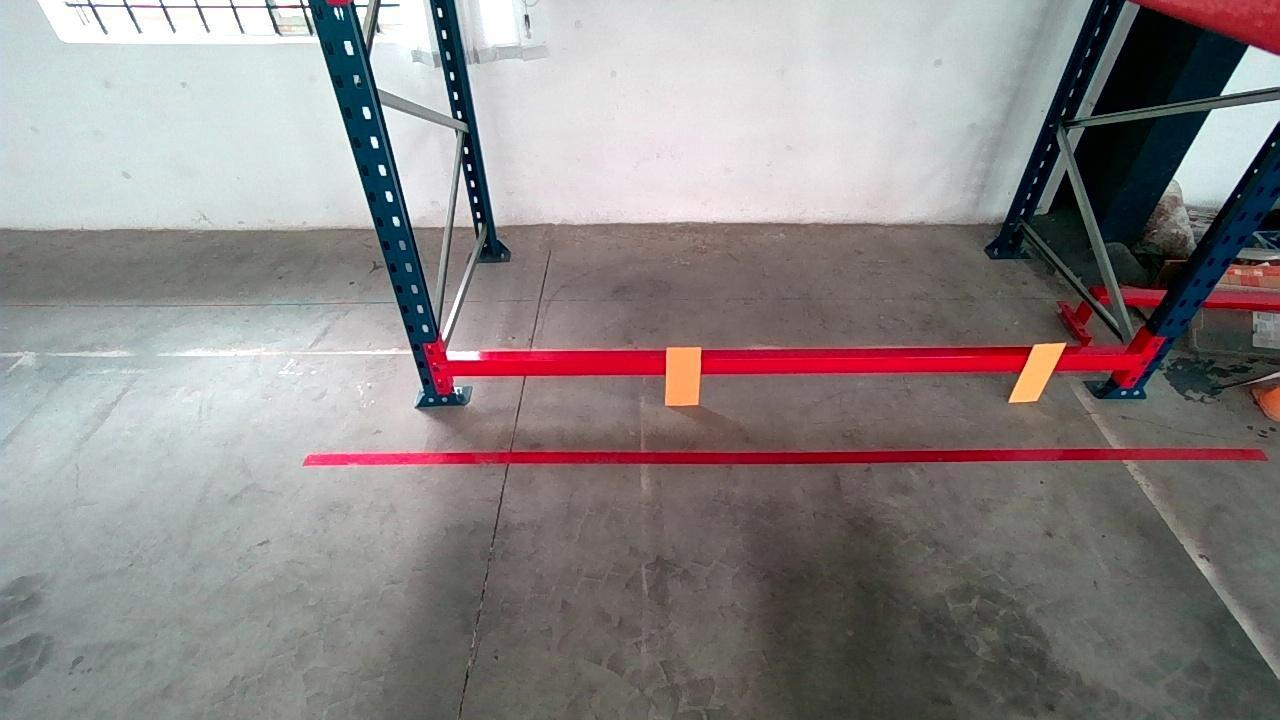h_rack: (445, 354, 1131, 375)
orange_strip: (1009, 342, 1069, 400), (666, 345, 702, 404)
red_line: (298, 449, 1269, 465)
